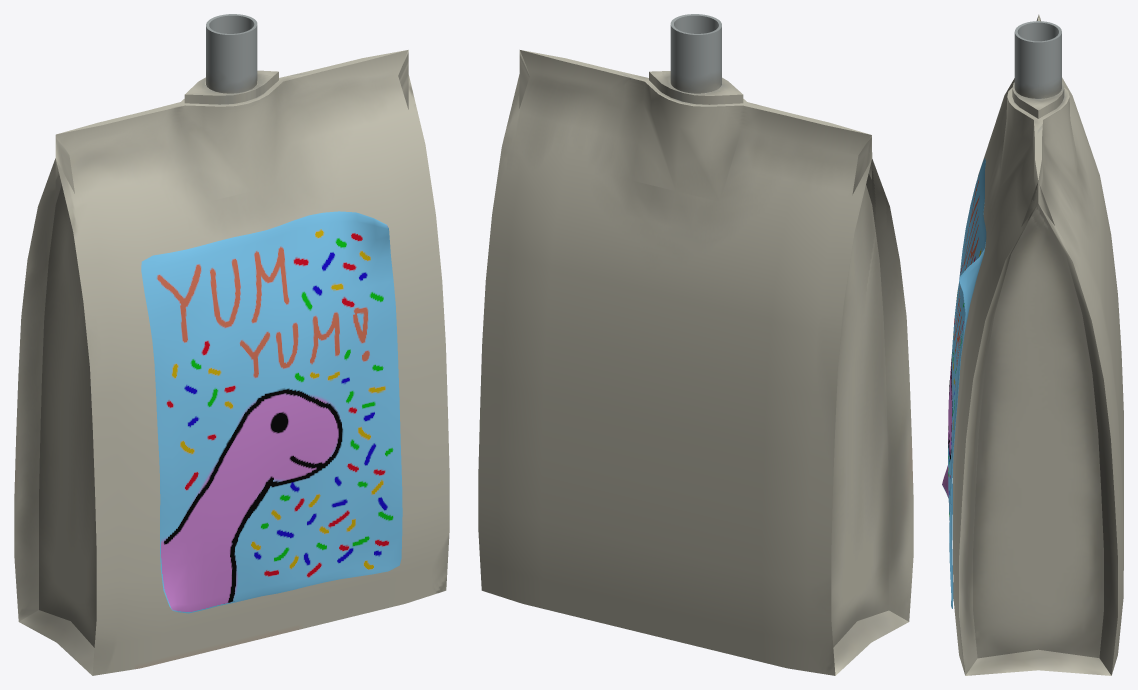
Rendered from DinoSpaceFood.fbx.
The picture shows the model from 3 angles, left to right: view 1: azimuth 30°, elevation 25°; view 2: azimuth 150°, elevation 25°; view 3: azimuth 270°, elevation 25°; orthographic projection. The views are drawn at different scales.
Visible parts, largest first — view 1: Cube, Plane; view 2: Cube; view 3: Cube, Plane.
Boxes of the visible parts, box(x1,y1,x2,y2) form: Cube: box(14, 14, 449, 675); Plane: box(141, 211, 402, 613); Cube: box(478, 14, 913, 675); Cube: box(953, 14, 1123, 675); Plane: box(942, 158, 986, 608).
Size of the model in its own units: 151 by 237 by 69.59.
